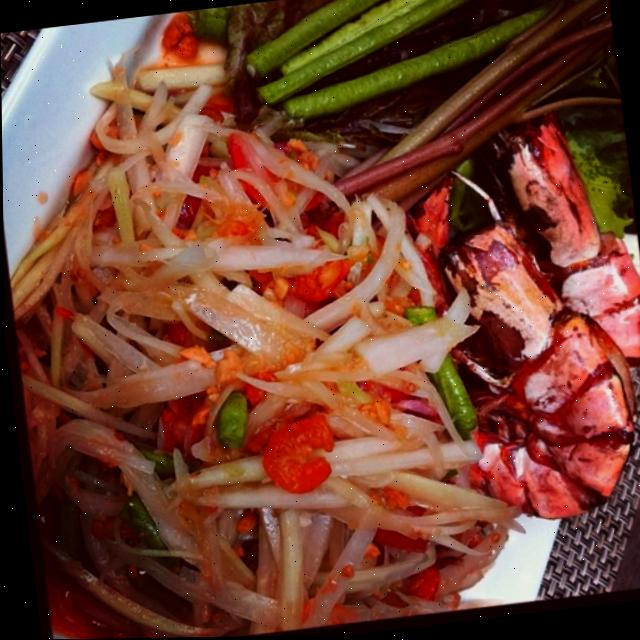蔬菜料理: (0, 16, 534, 640)
